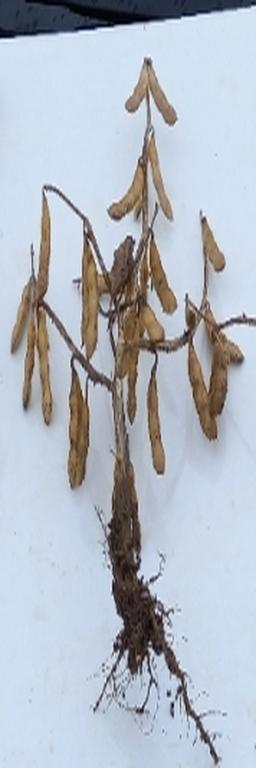pod: (141, 371, 172, 477), (105, 154, 142, 221), (148, 137, 177, 221), (36, 313, 56, 427), (148, 59, 181, 127), (150, 238, 179, 311), (35, 191, 53, 298), (200, 216, 233, 274), (125, 57, 149, 117), (9, 278, 28, 350)
soy: (8, 50, 247, 678)
